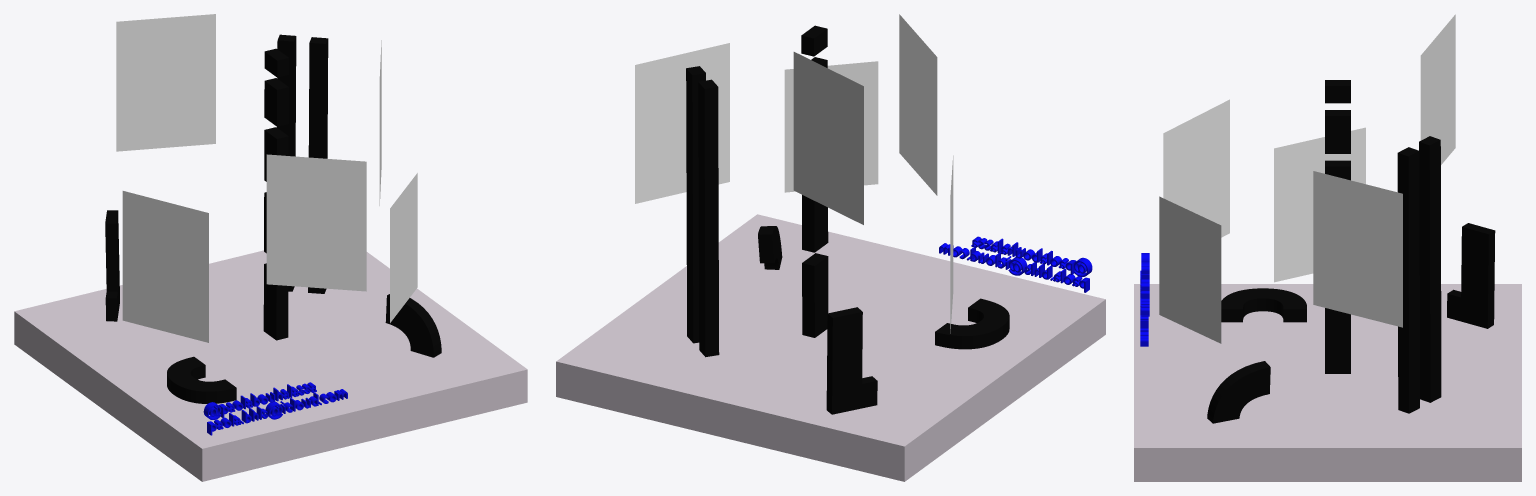
File: TDC - Plateau.gltf
3 views of the same model, side by side, from view 1: azimuth 30°, elevation 25°; view 2: azimuth 150°, elevation 25°; view 3: azimuth 270°, elevation 25° (orthographic). The views are drawn at different scales.
Visible parts, largest first — view 1: Plane, A_Plan de travail 1 copie, A_Plan de travail 1.001, A_Plan de travail 1 copie 4, Curve, A_Plan de travail 1 copie 6, Curve.001, Curve.010, Text.001, Curve.008, Curve.007, Text (+3 smaller); view 2: Plane, A_Plan de travail 1.001, A_Plan de travail 1 copie 5, Curve, A_Plan de travail 1 copie, Curve.008, A_Plan de travail 1 copie 6, Curve.001, Curve.007, Text.001, Text, Curve.006 (+3 smaller); view 3: Plane, A_Plan de travail 1 copie 5, Curve, A_Plan de travail 1 copie 6, A_Plan de travail 1 copie 4, A_Plan de travail 1 copie, A_Plan de travail 1.001, Curve.008, Curve.010, Curve.001, Curve.007, Curve.004 (+3 smaller).
Part boxes in pixels (x1,y1,x2,y2): Plane: [14, 250, 527, 481]; A_Plan de travail 1 copie: [266, 154, 366, 291]; A_Plan de travail 1.001: [116, 14, 215, 151]; A_Plan de travail 1 copie 4: [122, 191, 208, 342]; Curve: [277, 34, 328, 293]; A_Plan de travail 1 copie 6: [390, 173, 417, 322]; Curve.001: [167, 356, 236, 403]; Curve.010: [385, 294, 441, 357]; Text.001: [207, 389, 347, 435]; Curve.008: [105, 210, 119, 321]; Curve.007: [263, 263, 288, 340]; Text: [203, 382, 316, 419]; Plane: [556, 214, 1105, 481]; A_Plan de travail 1.001: [793, 52, 863, 224]; A_Plan de travail 1 copie 5: [635, 43, 729, 203]; Curve: [686, 66, 719, 357]; A_Plan de travail 1 copie: [899, 14, 937, 195]; Curve.008: [826, 307, 877, 414]; A_Plan de travail 1 copie 6: [784, 61, 878, 192]; Curve.001: [935, 298, 1009, 349]; Curve.007: [802, 253, 828, 337]; Text.001: [939, 243, 1089, 292]; Text: [971, 236, 1092, 276]; Curve.006: [802, 195, 828, 252]; Plane: [1134, 284, 1521, 481]; A_Plan de travail 1 copie 5: [1313, 171, 1402, 327]; Curve: [1397, 136, 1441, 413]; A_Plan de travail 1 copie 6: [1159, 196, 1221, 343]; A_Plan de travail 1 copie 4: [1274, 127, 1365, 282]; A_Plan de travail 1 copie: [1163, 99, 1229, 237]; A_Plan de travail 1.001: [1420, 14, 1455, 164]; Curve.008: [1447, 223, 1495, 328]; Curve.010: [1207, 361, 1270, 423]; Curve.001: [1221, 288, 1306, 322]; Curve.007: [1325, 308, 1350, 373]; Curve.004: [1325, 110, 1350, 153].
Size of the model in its own units: 0.6092 by 0.5883 by 0.6092.
